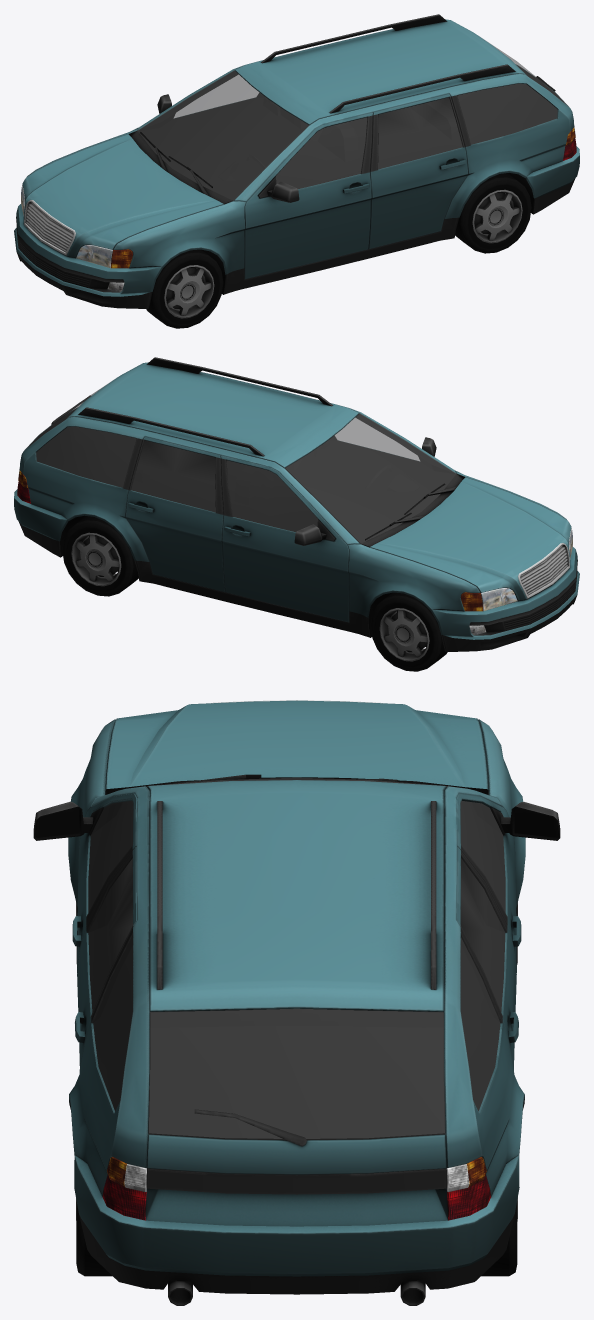
The model's file is wagon.glb.
3 renders of one model, top to bottom at view 1: azimuth 30°, elevation 25°; view 2: azimuth 150°, elevation 25°; view 3: azimuth 270°, elevation 25°, orthographic. The views are drawn at different scales.
Visible parts, largest first — view 1: wagon; view 2: wagon; view 3: wagon.
Part boxes in pixels (left/top/right/bottom): wagon: left=14, top=14, right=579, bottom=328; wagon: left=14, top=357, right=579, bottom=671; wagon: left=33, top=700, right=560, bottom=1305.
Bounding box in the file's own units: 4.8 × 1.51 × 2.14.
4 materials, 3 textured.
